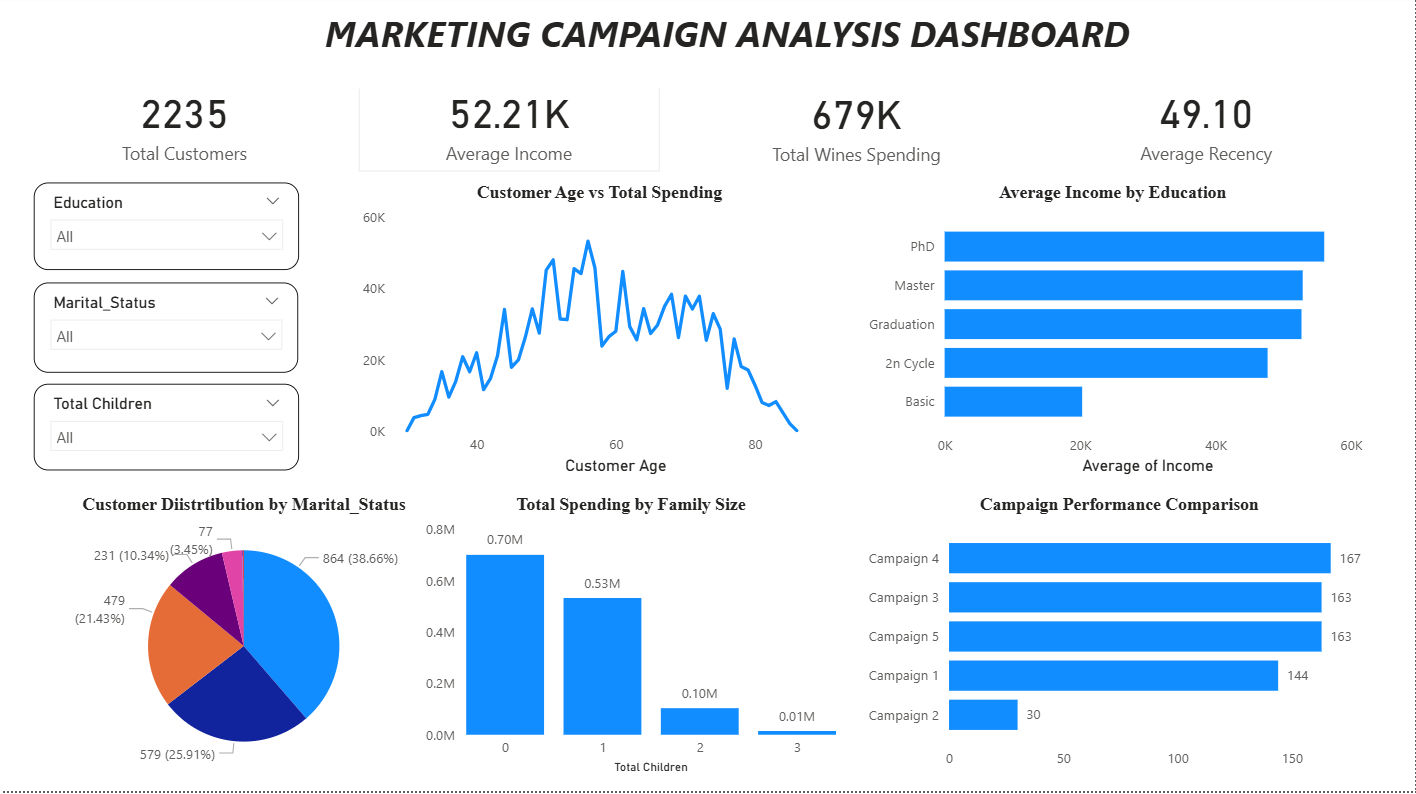

This screenshot's page, from the dashboard's own definition file:
{"tool":"powerbi","page":{"name":"Page 1","canvas":[1280,720],"ordinal":0},"visuals":[{"type":"card","fields":{"Values":["Avg(marketing_campaign.Income)"]},"box":[324.4,69.8,272.1,89.5],"z":0},{"type":"card","fields":{"Values":["Sum(marketing_campaign.MntWines)"]},"box":[619.8,70.9,310.5,89.5],"z":1000},{"type":"card","fields":{"Values":["Avg(marketing_campaign.Recency)"]},"box":[945.4,69.8,291.9,89.5],"z":2000},{"type":"clusteredBarChart","title":"Average Income by Education","fields":{"Category":["marketing_campaign.Education"],"Y":["Avg(marketing_campaign.Income)"]},"box":[775.6,169.8,461.6,269.8],"z":3000},{"type":"pieChart","title":"Customer Diistrtibution by Marital_Status","fields":{"Y":["CountNonNull(marketing_campaign.ID)"],"Category":["marketing_campaign.Marital_Status"]},"box":[30.2,451.2,380.2,258.1],"z":4000},{"type":"clusteredBarChart","title":"Campaign Performance Comparison","fields":{"Category":["CampaignPerformance.Campaign"],"Y":["Sum(CampaignPerformance.Accepted)"]},"box":[775.3,451.5,473.4,258],"z":5000},{"type":"lineChart","title":"Customer Age vs Total Spending","fields":{"Category":["marketing_campaign.Customer Age"],"Y":["marketing_campaign.Total Spending"]},"box":[323.8,170.2,437.7,269],"z":6000},{"type":"clusteredColumnChart","title":"Total Spending by Family Size","fields":{"Category":["marketing_campaign.Total Children"],"Y":["marketing_campaign.Total Spending"]},"box":[380.1,451.5,381.5,258],"z":7000},{"type":"textbox","box":[265.1,8.1,787.2,76.7],"z":8000},{"type":"card","fields":{"Values":["CountNonNull(marketing_campaign.ID)"]},"box":[30.2,69.8,273.3,89.5],"z":9000},{"type":"slicer","fields":{"Values":["marketing_campaign.Education"]},"box":[30.2,170.2,240.1,79.6],"z":10000},{"type":"slicer","fields":{"Values":["marketing_campaign.Marital_Status"]},"box":[30.2,260.5,239.5,81.4],"z":11000},{"type":"slicer","fields":{"Values":["marketing_campaign.Total Children"]},"box":[30.2,351.3,240.1,78.2],"z":12000}]}

Visuals, with their boxes in screenshot pixels (x1, y1, x2, y2), scaled from the page's 1280x720 canvas onto the 1416x794 screenshot:
card - Avg(marketing_campaign.Income): region(359, 77, 660, 176)
card - Sum(marketing_campaign.MntWines): region(686, 78, 1029, 177)
card - Avg(marketing_campaign.Recency): region(1046, 77, 1369, 176)
"Average Income by Education" clusteredBarChart: region(858, 187, 1369, 485)
"Customer Diistrtibution by Marital_Status" pieChart: region(33, 498, 454, 782)
"Campaign Performance Comparison" clusteredBarChart: region(858, 498, 1381, 782)
"Customer Age vs Total Spending" lineChart: region(358, 188, 842, 484)
"Total Spending by Family Size" clusteredColumnChart: region(420, 498, 843, 782)
textbox: region(293, 9, 1164, 94)
card - CountNonNull(marketing_campaign.ID): region(33, 77, 336, 176)
slicer - marketing_campaign.Education: region(33, 188, 299, 275)
slicer - marketing_campaign.Marital_Status: region(33, 287, 298, 377)
slicer - marketing_campaign.Total Children: region(33, 387, 299, 474)
